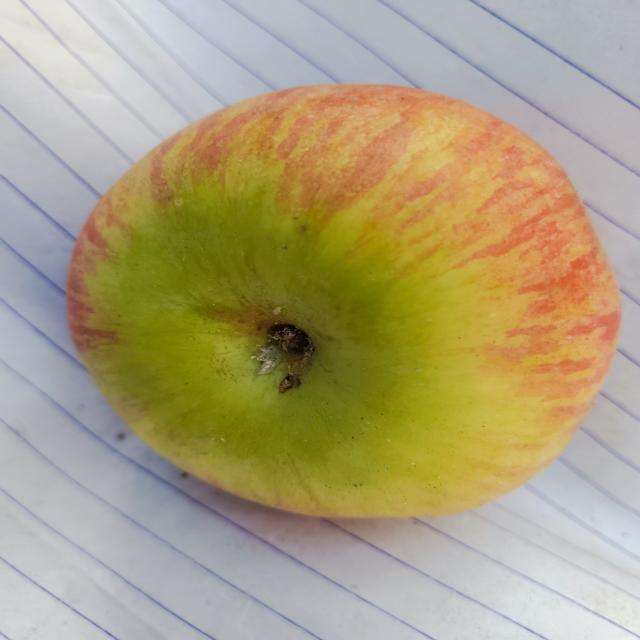Fresh Apple: (63, 87, 623, 530)
